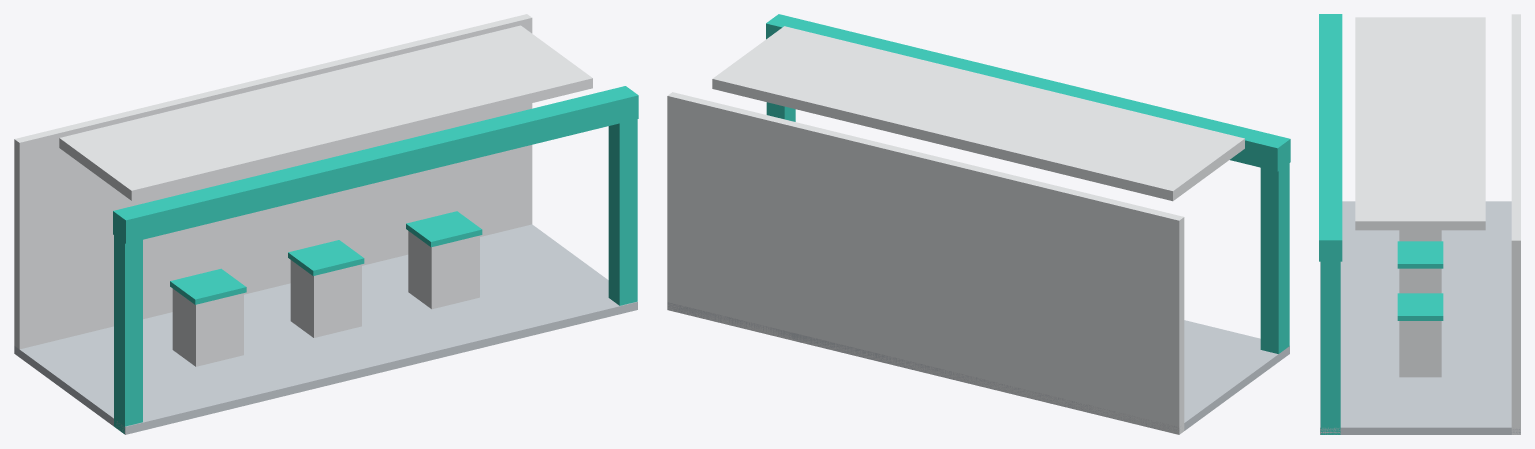
The picture shows the model from 3 angles, left to right: view 1: azimuth 30°, elevation 25°; view 2: azimuth 150°, elevation 25°; view 3: azimuth 270°, elevation 25°; orthographic projection. The views are drawn at different scales.
Visible parts, largest first — view 1: Exhibition Booth Concept; view 2: Exhibition Booth Concept; view 3: Exhibition Booth Concept.
Boxes of the visible parts, box(x1,y1,x2,y2) form: Exhibition Booth Concept: box(14, 14, 638, 434); Exhibition Booth Concept: box(667, 14, 1290, 434); Exhibition Booth Concept: box(1319, 14, 1520, 434).
Bounding box in the file's own units: 8 × 3.34 × 3.01.
